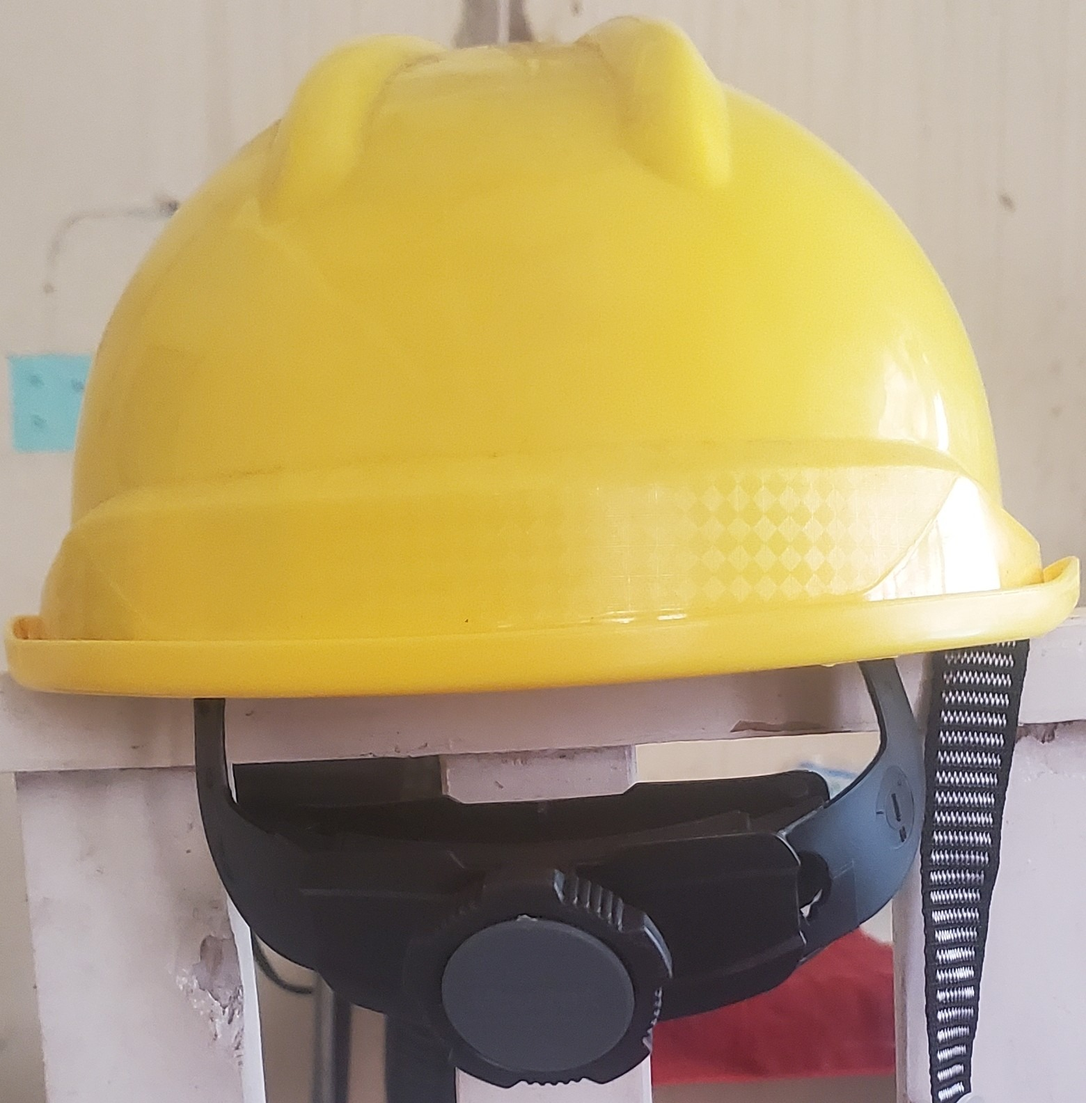helment: (0, 12, 1086, 1084)
